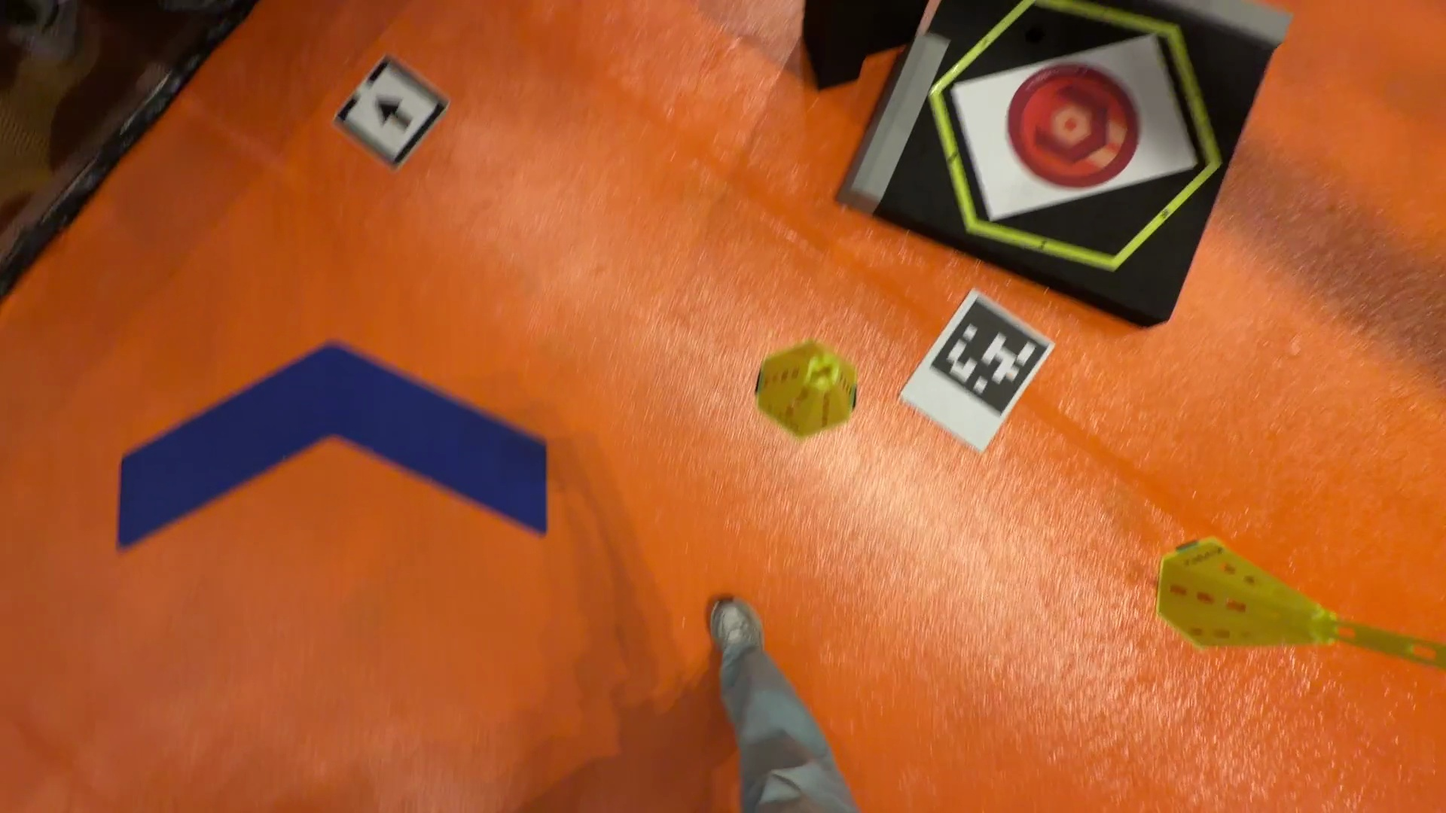landing_pad: (1004, 66, 1143, 189)
